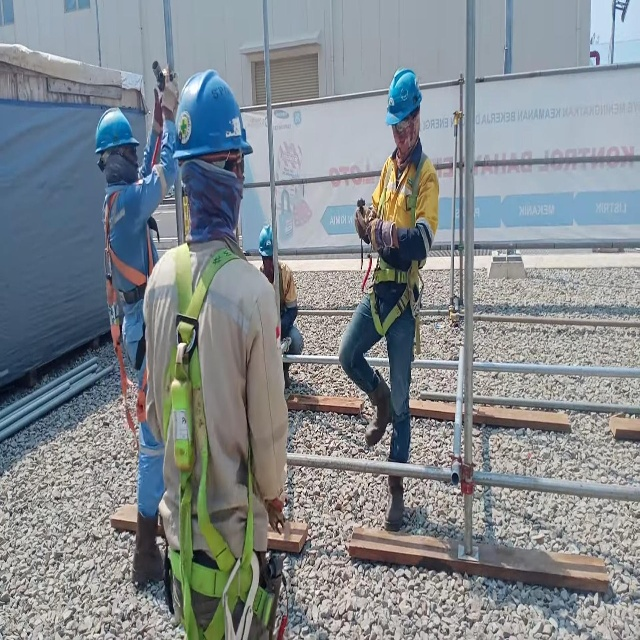Arnes_seguridad: (160, 240, 280, 640), (101, 180, 155, 453), (368, 143, 427, 363)
